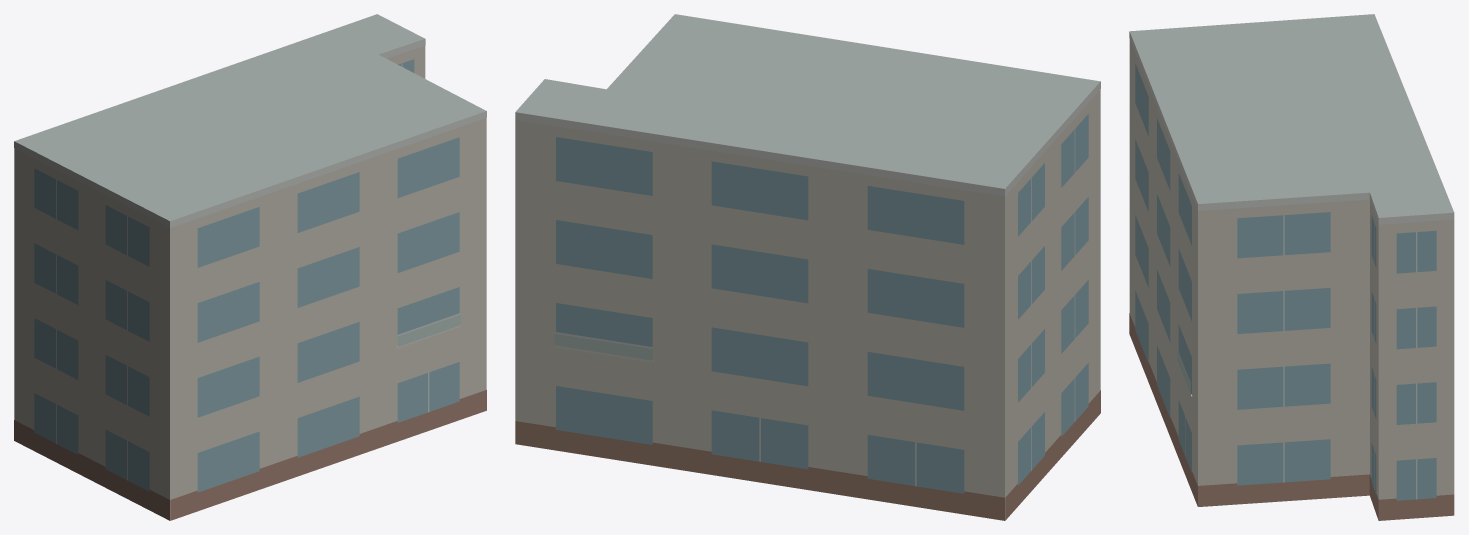
The model's file is survey-upis-32742544.glb.
3 views of the same model, side by side, from view 1: azimuth 30°, elevation 25°; view 2: azimuth 150°, elevation 25°; view 3: azimuth 270°, elevation 25° (orthographic). The views are drawn at different scales.
Visible parts, largest first — view 1: survey-upis-32742544.tmp; view 2: survey-upis-32742544.tmp; view 3: survey-upis-32742544.tmp.
Part boxes in pixels (x1,y1,x2,y2): survey-upis-32742544.tmp: (14,14,486,520); survey-upis-32742544.tmp: (515,14,1100,520); survey-upis-32742544.tmp: (1129,14,1454,520).
Bounding box in the file's own units: 15.61 × 10.8 × 10.51.
